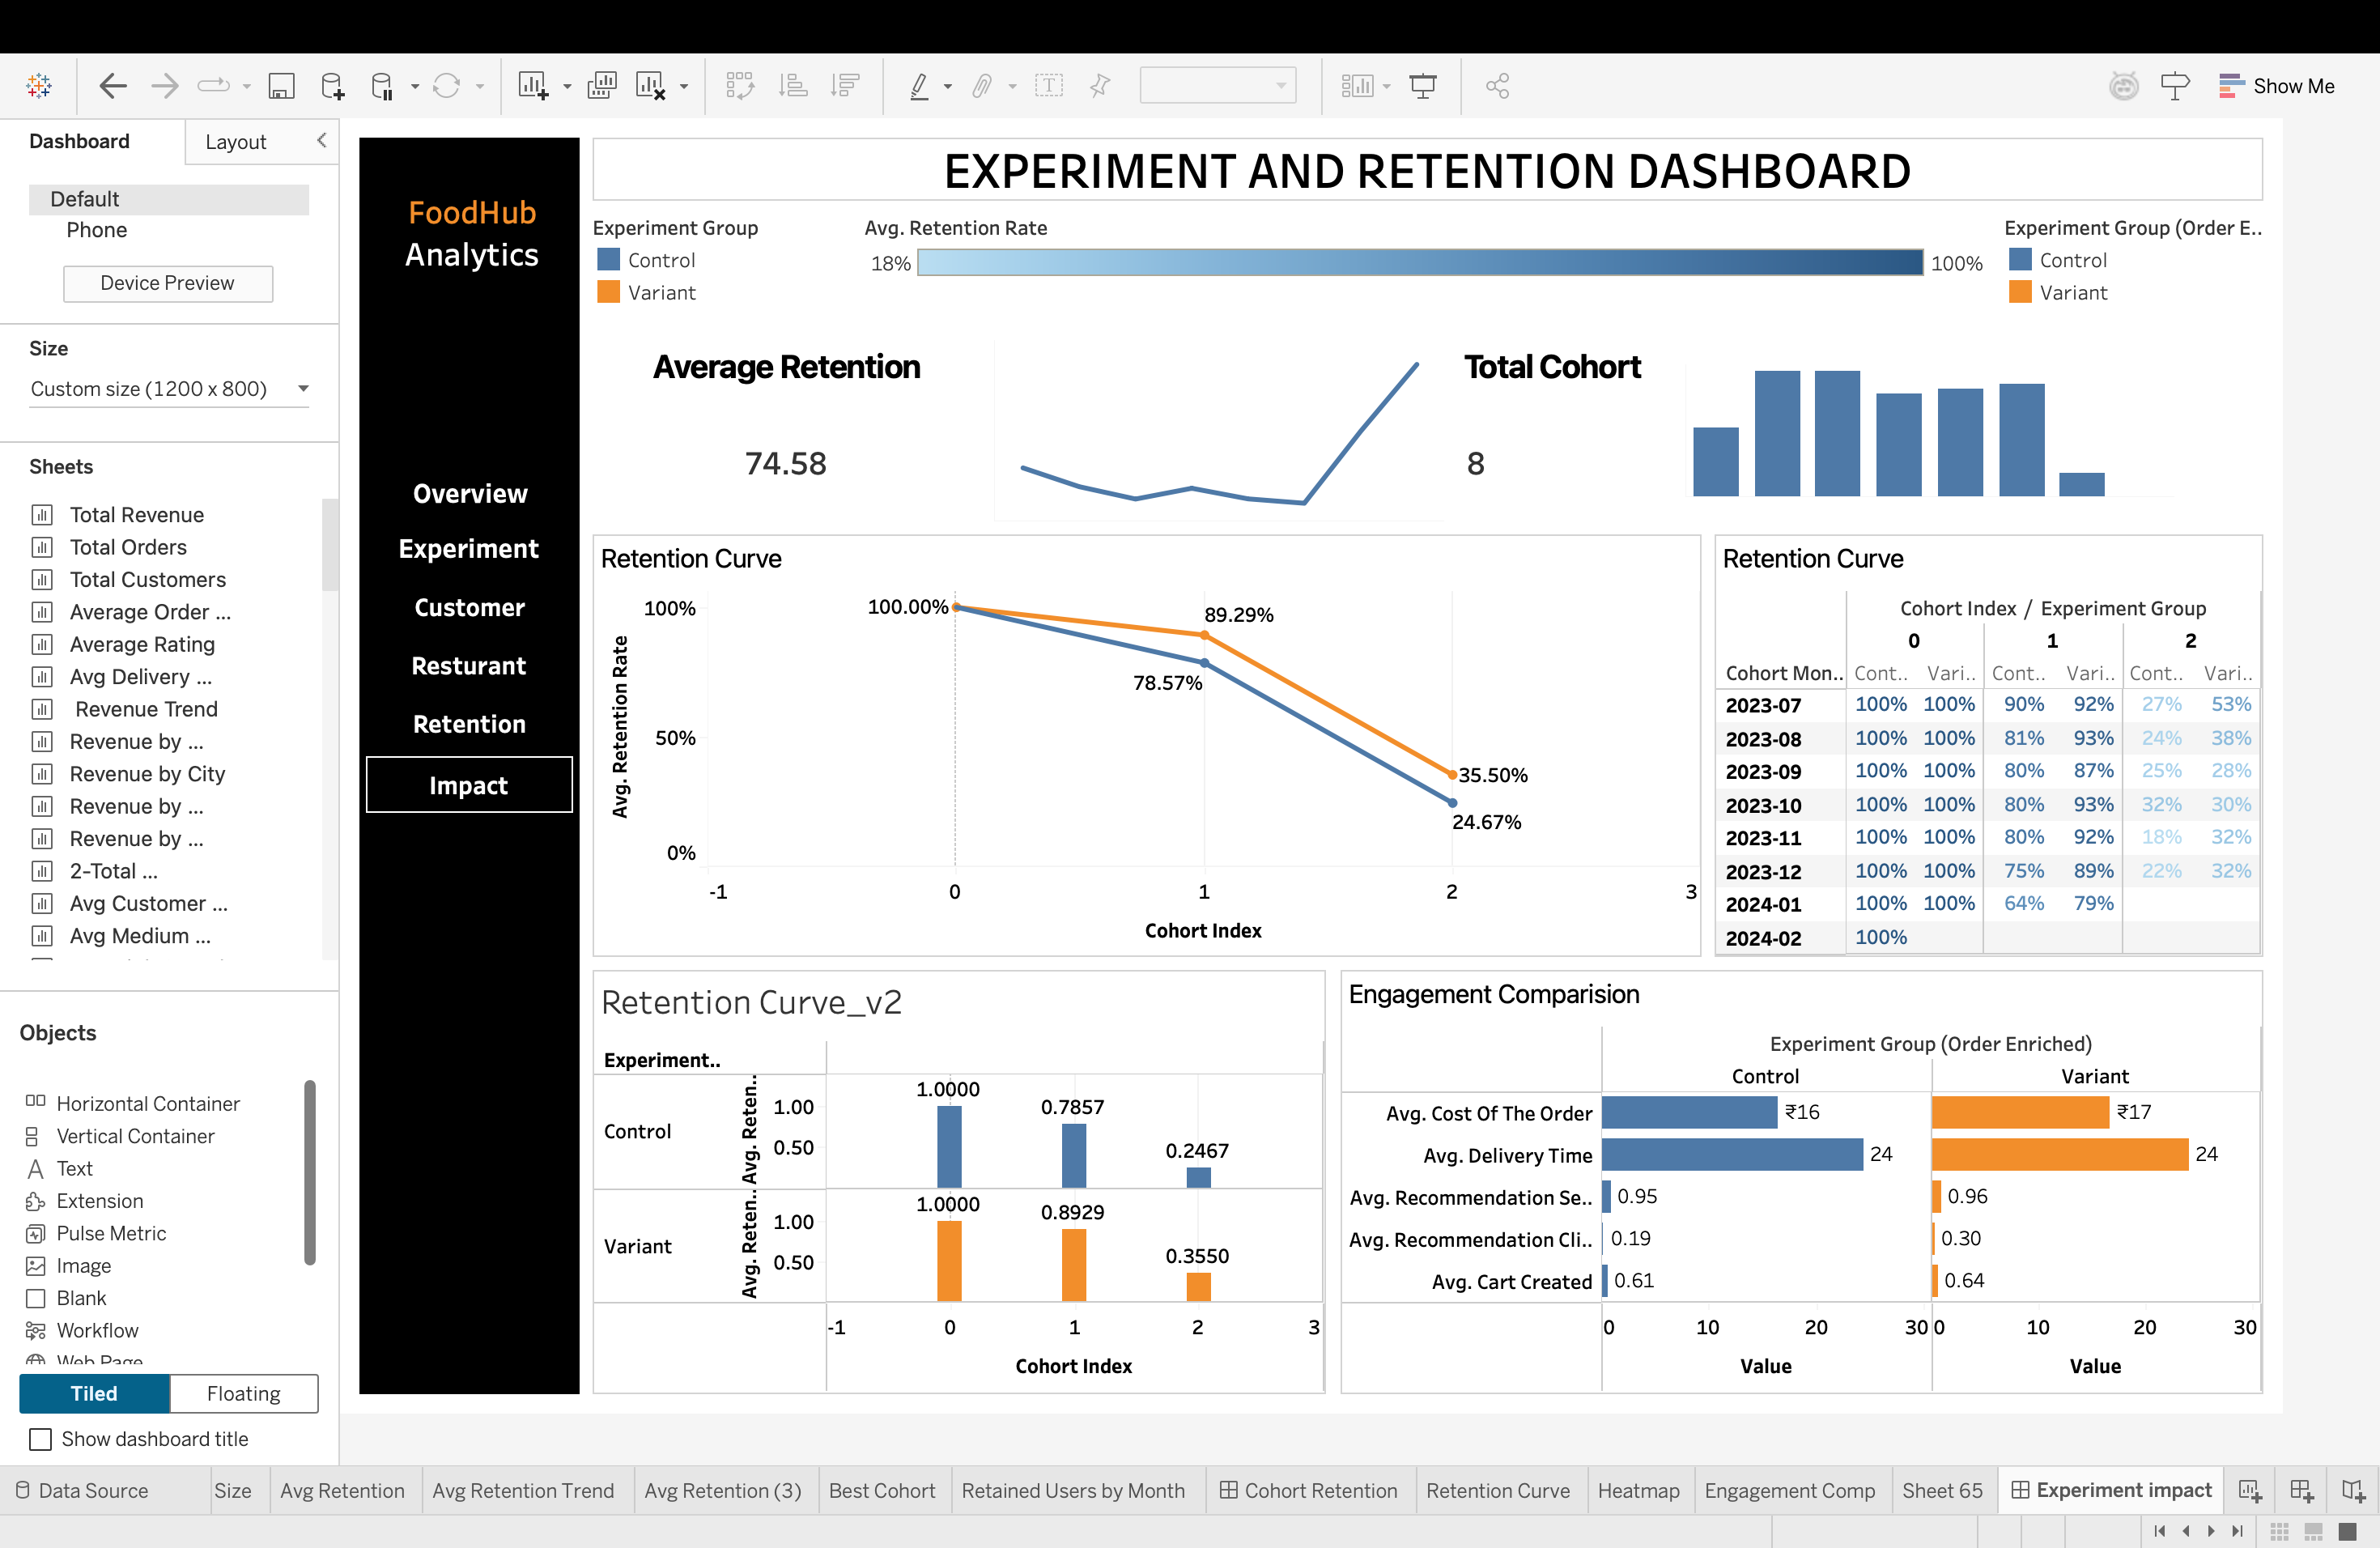

Layout of this report page (visuals, bound fields, positions):
{"tool":"tableau","page":{"name":"Cohort Retention","canvas":[1200,800],"ordinal":1},"visuals":[{"type":"blank","box":[8,8,144.4,784]},{"type":"text","box":[152.4,8,1039.6,47]},{"type":"text","box":[16.8,14,129.6,112]},{"type":"filter","title":"Retention Heatmap","param":"[federated.17vwm6f052w31h13akm811cujpw3].[none:Calculation_0031087897747456:nk]","box":[152.4,55,168,78]},{"type":"filter","title":"Retention Heatmap","param":"[federated.17vwm6f052w31h13akm811cujpw3].[none:cohort_month:nk]","box":[320.4,55,168,78]},{"type":"worksheet","title":"Avg Retention","mark":"Automatic","box":[152.4,133,248,120]},{"type":"worksheet","title":"Avg Retention Trend","mark":"Line","rows":["retention_rate"],"cols":["cohort_month"],"box":[400.4,133,286,120]},{"type":"worksheet","title":"Total Cohort","mark":"Automatic","rows":["cohort_month"],"box":[686.4,133,505.6,120]},{"type":"worksheet","title":"Tot Cohort Size","mark":"Automatic","rows":["cohort_size"],"cols":["cohort_month"],"box":[831,152,302,82]},{"type":"dashboard-object","box":[17,216,129,31]},{"type":"dashboard-object","box":[16,248,128,35]},{"type":"worksheet","title":"Retention Heatmap","mark":"Automatic","rows":["cohort_month"],"cols":["Calculation_0031087897747456"],"box":[152.4,253,519.8,269.5]},{"type":"worksheet","title":"Retained Users by Month","mark":"Automatic","rows":["retained_users"],"cols":["cohort_index"],"box":[672.2,253,519.8,269.5]},{"type":"dashboard-object","box":[15.6,284,128.4,35]},{"type":"dashboard-object","box":[15.6,320,128.4,35]},{"type":"dashboard-object","box":[15.6,356,128.4,35]},{"type":"worksheet","title":"Retention Trend by Cohort","mark":"Line","rows":["retention_rate"],"cols":["cohort_index"],"box":[152.4,522.5,561,269.5]},{"type":"worksheet","title":"Cohort Size","mark":"Automatic","rows":["cohort_size"],"cols":["cohort_month"],"box":[713.4,522.5,478.5,269.5]},{"type":"legend","title":"Retention Trend by Cohort","param":"[federated.17vwm6f052w31h13akm811cujpw3].[none:cohort_month:nk]","box":[622,531,140,178]}]}

Visuals, with their boxes on the page's 1200x800 design canvas (x1, y1, x2, y2). These are canvas units, not pixel positions in the 2380x1548 screenshot, which may show the page scaled, cropped or inside an application window:
blank: region(8, 8, 152, 792)
text: region(152, 8, 1192, 55)
text: region(17, 14, 146, 126)
"Retention Heatmap" filter: region(152, 55, 320, 133)
"Retention Heatmap" filter: region(320, 55, 488, 133)
"Avg Retention" worksheet: region(152, 133, 400, 253)
"Avg Retention Trend" worksheet (Line marks): region(400, 133, 686, 253)
"Total Cohort" worksheet: region(686, 133, 1192, 253)
"Tot Cohort Size" worksheet: region(831, 152, 1133, 234)
dashboard-object: region(17, 216, 146, 247)
dashboard-object: region(16, 248, 144, 283)
"Retention Heatmap" worksheet: region(152, 253, 672, 522)
"Retained Users by Month" worksheet: region(672, 253, 1192, 522)
dashboard-object: region(16, 284, 144, 319)
dashboard-object: region(16, 320, 144, 355)
dashboard-object: region(16, 356, 144, 391)
"Retention Trend by Cohort" worksheet (Line marks): region(152, 522, 713, 792)
"Cohort Size" worksheet: region(713, 522, 1192, 792)
"Retention Trend by Cohort" legend: region(622, 531, 762, 709)
